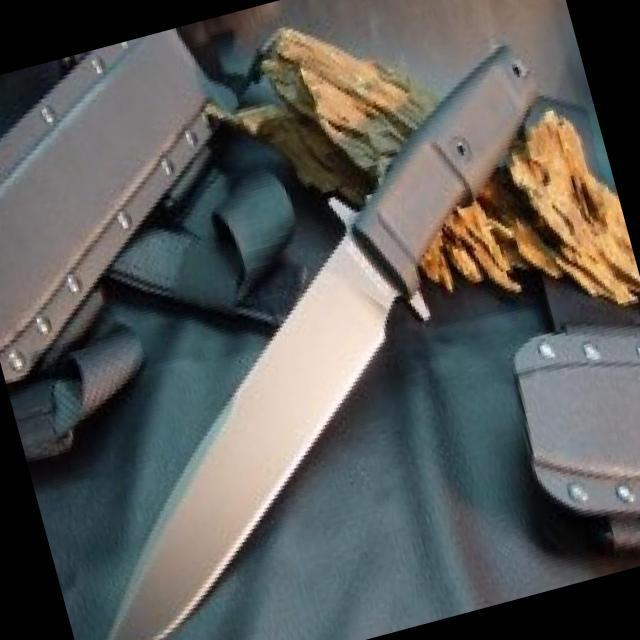Knife: (0, 231, 467, 640)
